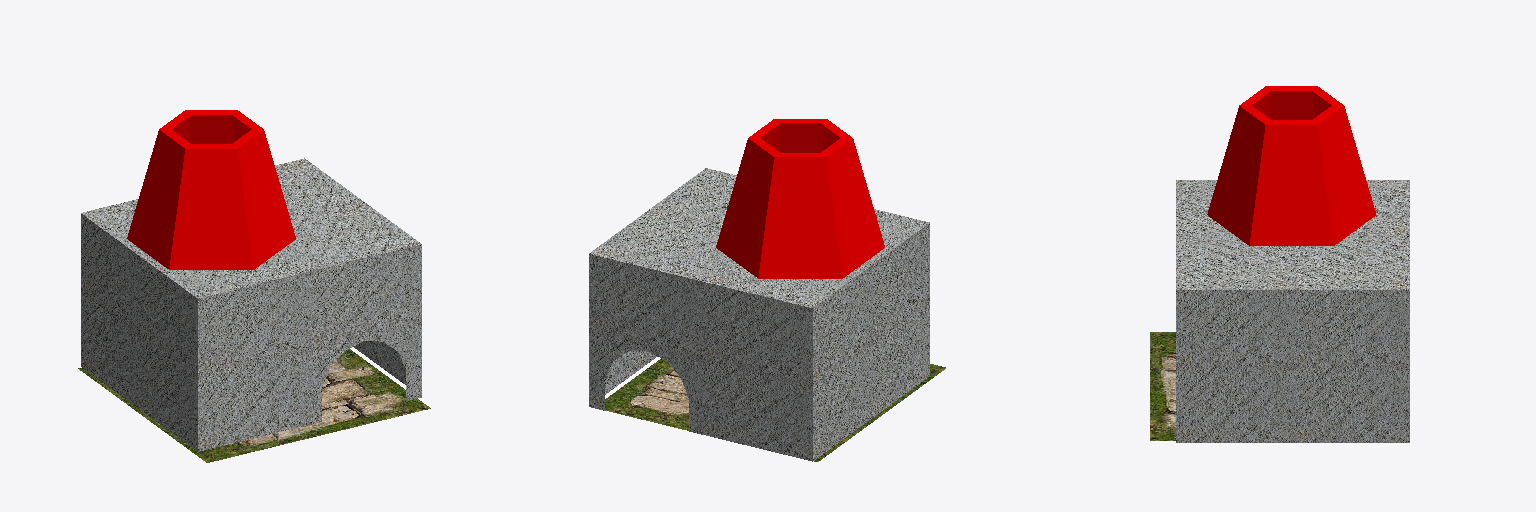
3 renders of one model, left to right at view 1: azimuth 30°, elevation 25°; view 2: azimuth 150°, elevation 25°; view 3: azimuth 270°, elevation 25°, orthographic.
Size of the model in its own units: 2.03 by 2.25 by 2.02.
Materials: 3 (2 with a texture image).